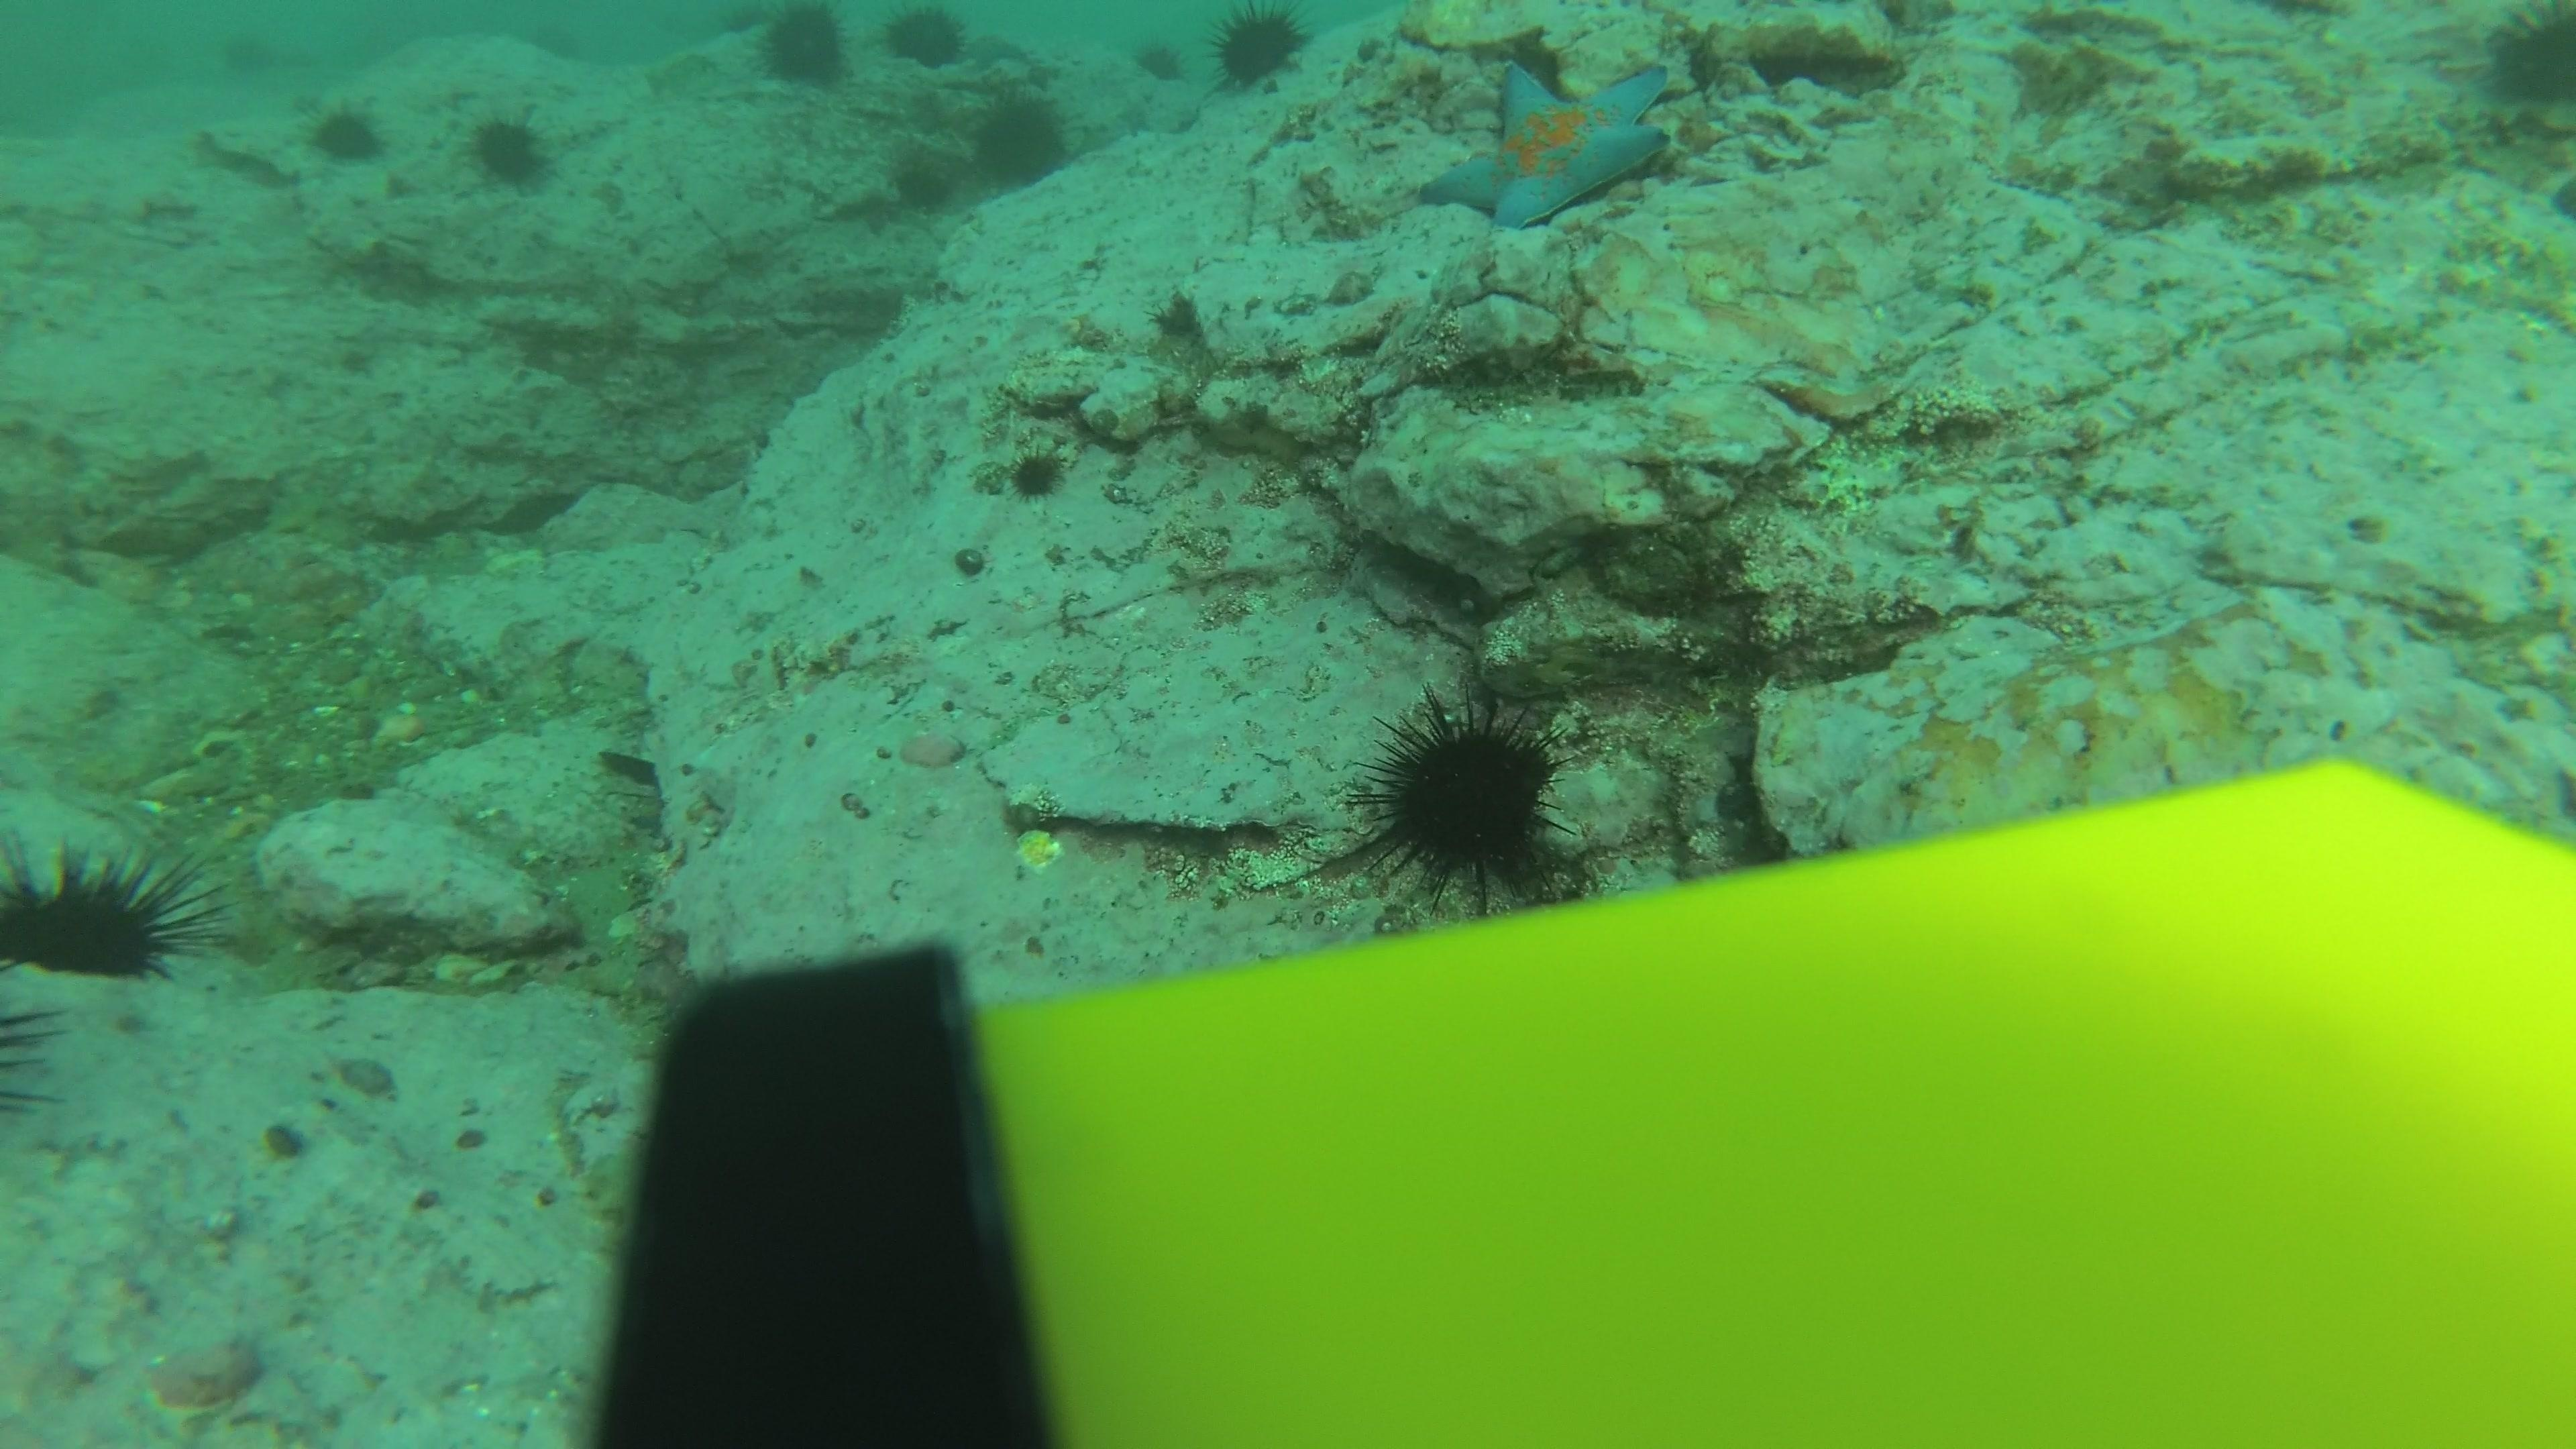echinus: (1352, 688, 1576, 899), (2, 824, 216, 991), (2473, 2, 2574, 133), (968, 87, 1074, 191), (1207, 4, 1313, 96), (750, 4, 853, 92), (464, 106, 559, 193), (879, 4, 971, 73), (303, 96, 389, 168), (522, 12, 609, 85), (1120, 21, 1205, 94), (989, 433, 1074, 506), (212, 23, 297, 94), (888, 149, 957, 214)
starfish: (1410, 50, 1683, 235)
